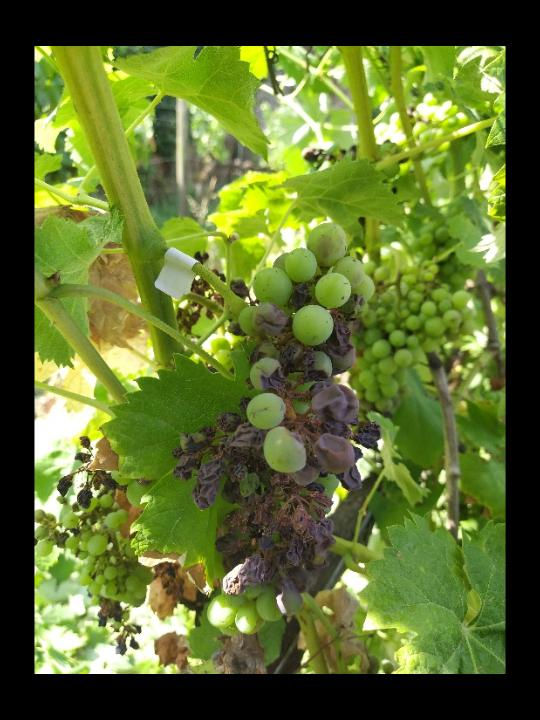grape: (172, 220, 384, 637)
